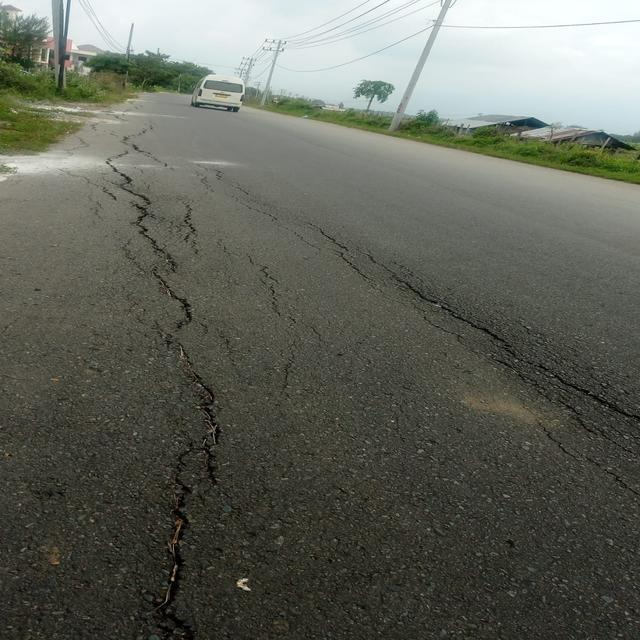Memanjang: (309, 216, 640, 446), (90, 132, 228, 637)
